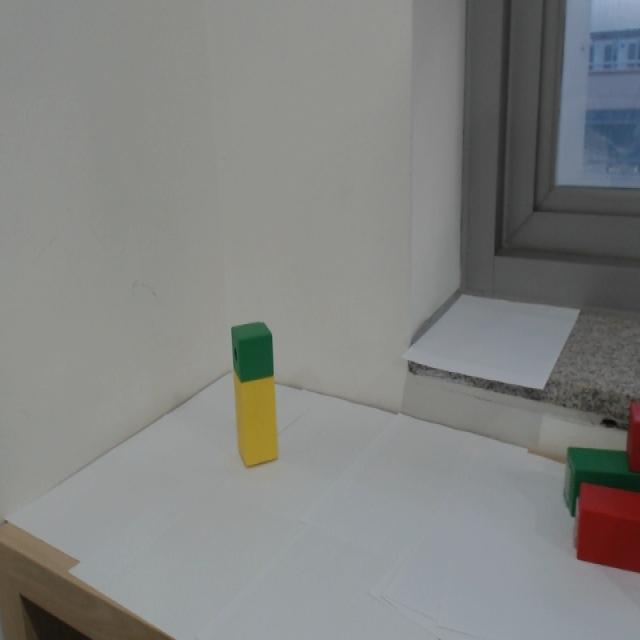cube: (227, 316, 278, 386)
